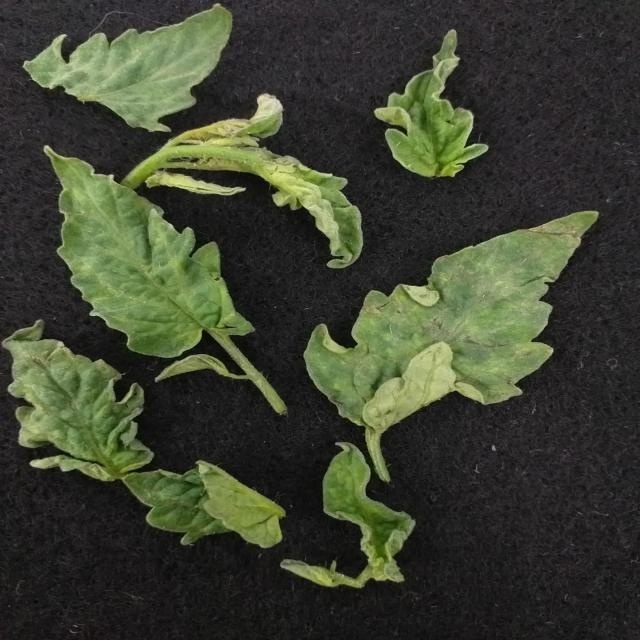T_L_R: (308, 213, 596, 420), (48, 150, 253, 359), (24, 6, 233, 132), (4, 322, 154, 482), (376, 31, 489, 177), (324, 444, 416, 582), (261, 159, 363, 270), (124, 470, 228, 546)
